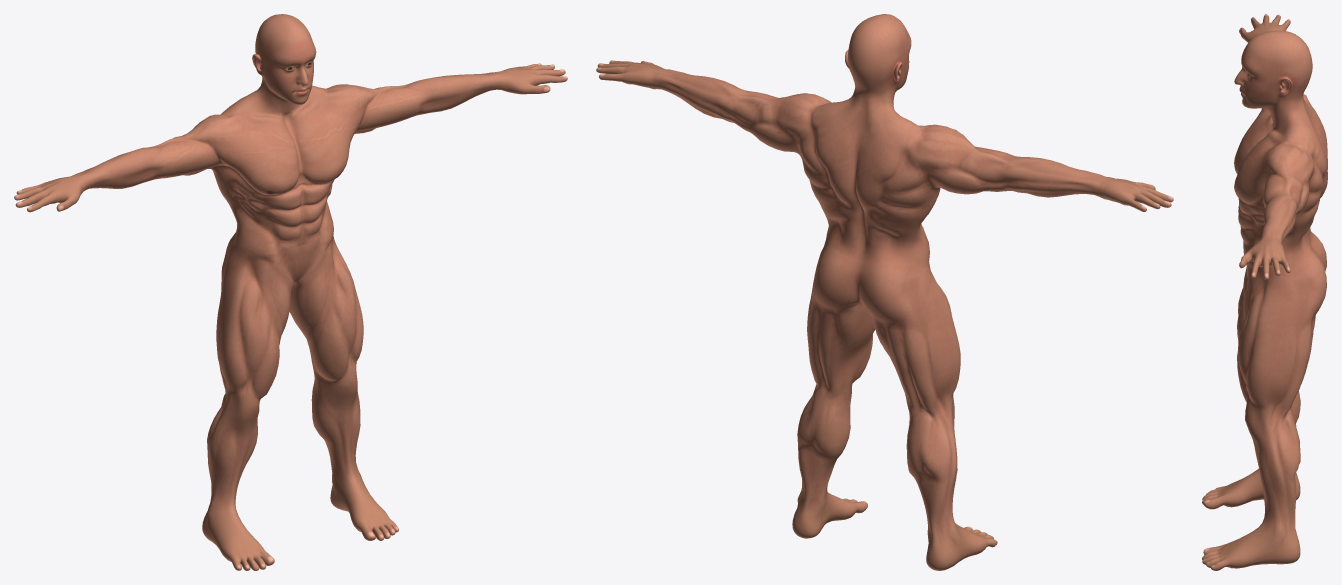
The picture shows the model from 3 angles, left to right: view 1: azimuth 30°, elevation 25°; view 2: azimuth 150°, elevation 25°; view 3: azimuth 270°, elevation 25°; orthographic projection. The views are drawn at different scales.
Visible parts, largest first — view 1: body_low; view 2: body_low; view 3: body_low.
Boxes of the visible parts, bbox=[...] form: body_low: bbox=[14, 14, 567, 570]; body_low: bbox=[596, 14, 1173, 570]; body_low: bbox=[1202, 14, 1327, 570].
Size of the model in its own units: 0.1994 by 0.1771 by 0.0404.
Materials: 3 (2 with a texture image).
